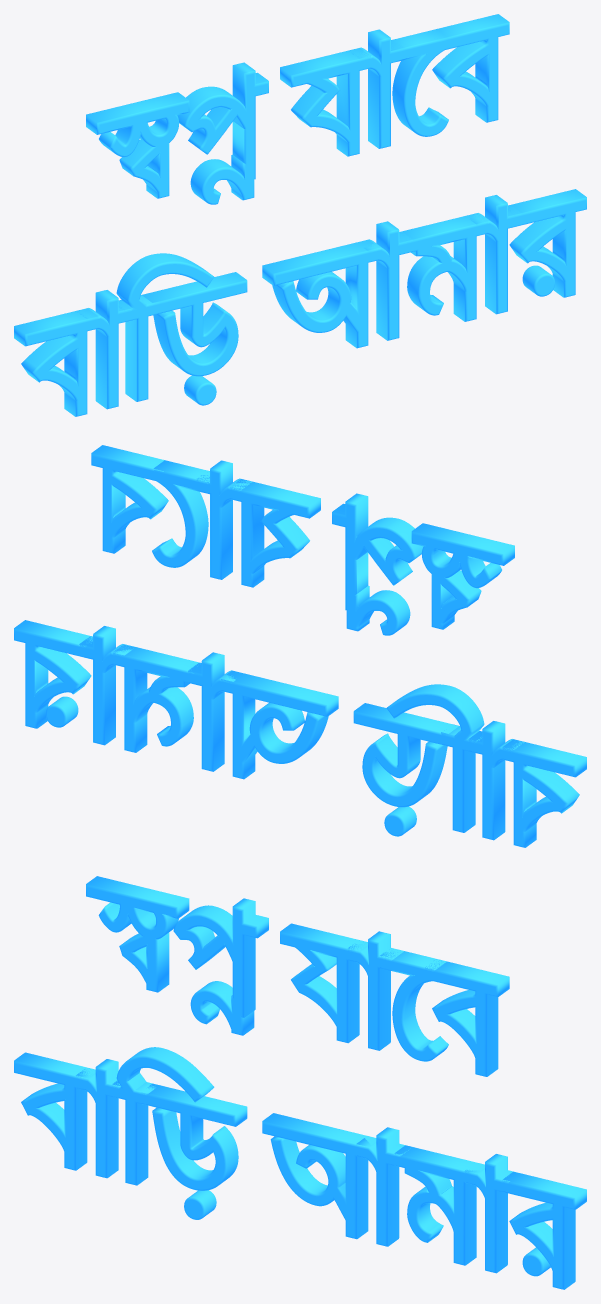
File: sopno_jabe_.glb
3 views of the same model, one above another, from view 1: azimuth 30°, elevation 25°; view 2: azimuth 150°, elevation 25°; view 3: azimuth 330°, elevation 25° (orthographic).
Visible parts, largest first — view 1: Text; view 2: Text; view 3: Text.
Boxes of the visible parts, x1,y1,x2,y2 form: Text: [14, 14, 586, 416]; Text: [14, 445, 586, 847]; Text: [14, 876, 586, 1289].
Size of the model in its own units: 0.4594 by 0.2521 by 0.0182.
Materials: 1 (1 with a texture image).
